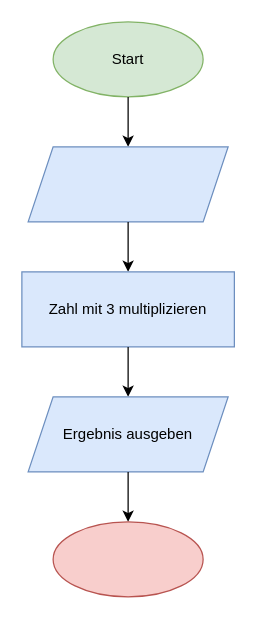
Image size: 256x619. Some labels were removed from this diagram. The shapes that lost their labels are listed below. From the top down, each one's box as (x1, y1, x2, y2) in pixels, then its label:
(27, 146, 228, 222): Zahl einlesen
(52, 521, 203, 597): Ende
